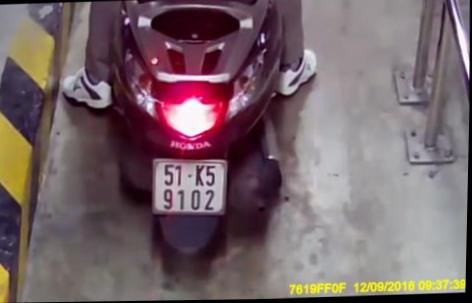LP: (151, 153, 231, 218)
